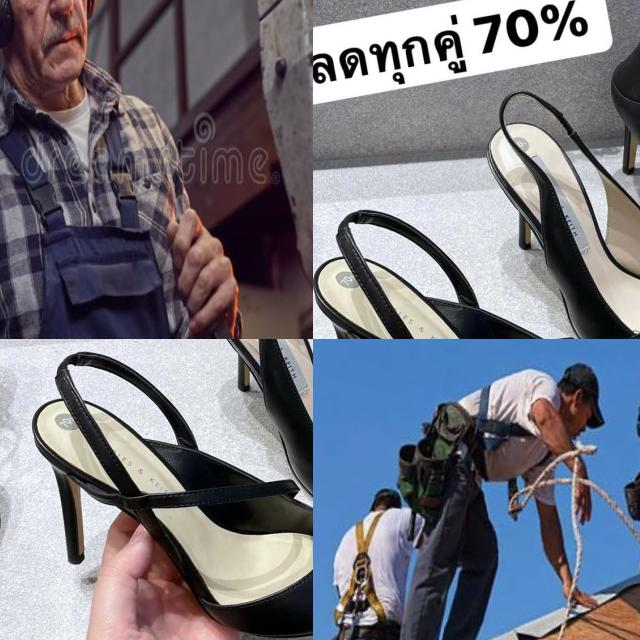Ear-protection: (0, 0, 115, 104)
Harness: (334, 512, 387, 627), (471, 385, 532, 480)
Sandals: (21, 339, 313, 640), (469, 64, 640, 339), (313, 197, 640, 339), (188, 339, 313, 572), (570, 9, 640, 339)
person: (0, 0, 247, 339)
